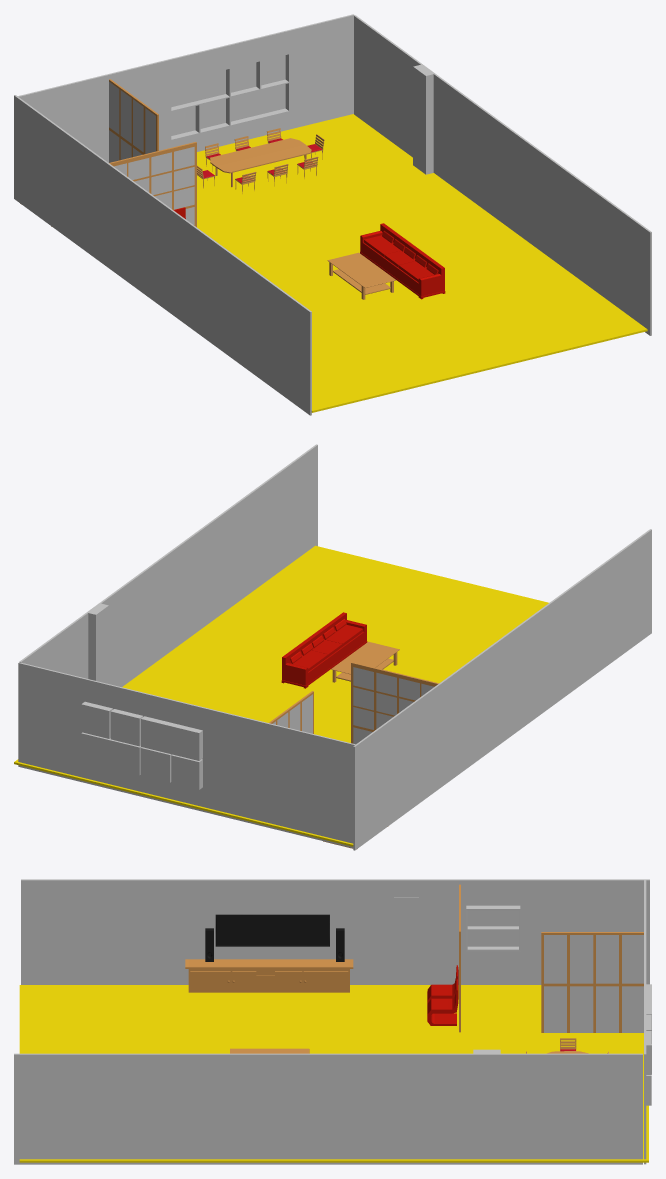
File: room.dae
The picture shows the model from 3 angles, top to bottom: view 1: azimuth 30°, elevation 25°; view 2: azimuth 150°, elevation 25°; view 3: azimuth 270°, elevation 25°; orthographic projection. The views are drawn at different scales.
Visible parts, largest first — view 1: Cube_001 (×2), Cube_002, Cube_003, Cube_005, Cube_011, Cube_006, Cube_012, Cube_013; view 2: Cube_001 (×2), Cube_002, Cube_003, Cube_005, Cube_011, Cube_013, Cube_006; view 3: Cube_003, Cube_002, Cube_001 (×2), Cube_006, Cube_008, Plane, Cube_036, Plane_002, Cube_035, Cube_013.
Boxes of the visible parts, x1,y1,x2,y2 form: Cube_001 (×2): (17,14,647,412); Cube_002: (14,95,311,415); Cube_003: (354,15,651,335); Cube_005: (109,142,196,227); Cube_011: (360,223,445,299); Cube_006: (109,79,158,162); Cube_012: (210,138,311,187); Cube_013: (327,252,396,299); Cube_001 (×2): (14,545,548,848); Cube_002: (353,529,651,850); Cube_003: (19,444,317,686); Cube_005: (351,662,438,744); Cube_011: (281,612,367,688); Cube_013: (331,641,399,682); Cube_006: (269,691,313,733); Cube_003: (14,1049,642,1164); Cube_002: (21,879,649,984); Cube_001 (×2): (19,880,651,1164); Cube_006: (541,932,643,1032); Cube_008: (185,959,353,992); Plane: (215,914,329,946); Cube_036: (427,979,458,1025); Plane_002: (394,897,418,919); Cube_035: (427,965,458,1004); Cube_013: (230,1048,309,1053).
Bounding box in the file's own units: 10.92 × 16.68 × 3.24.
